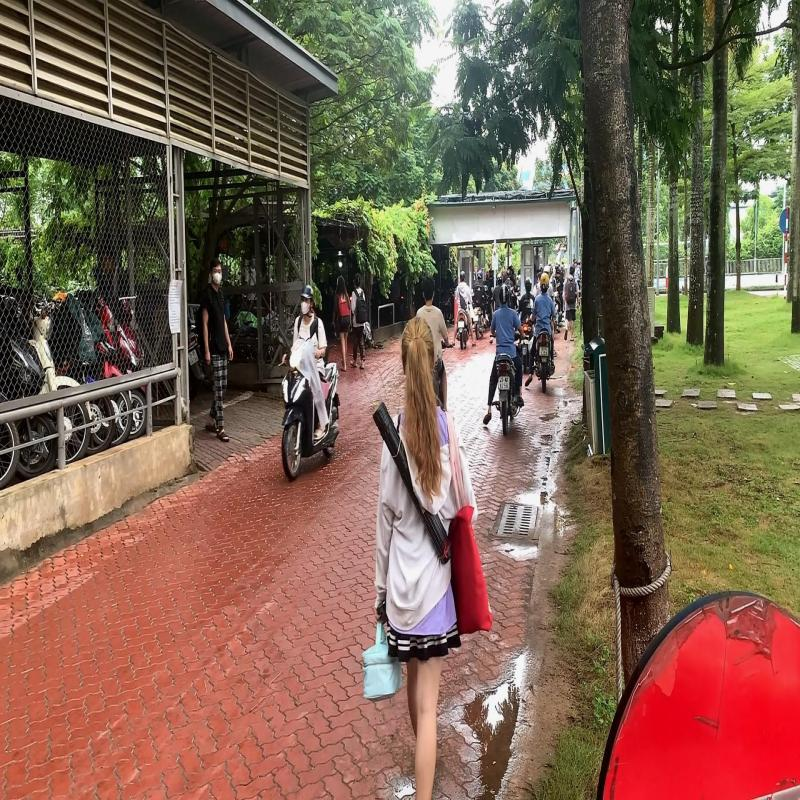nohelmet: (420, 274, 436, 306)
